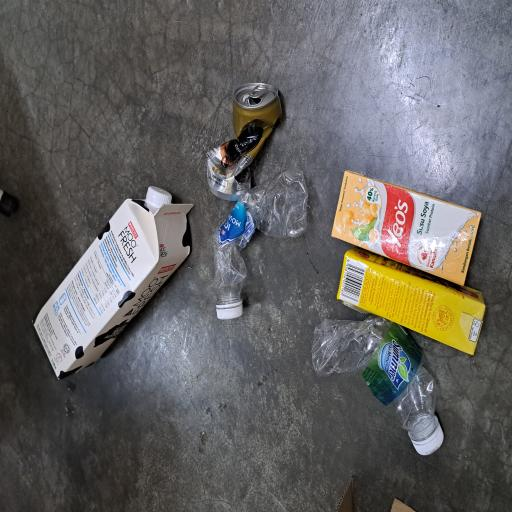can: (233, 274, 323, 376)
drink carton: (98, 41, 235, 258), (169, 441, 257, 512), (115, 448, 198, 512)
plastic bottle: (157, 280, 258, 410), (56, 415, 148, 512)
plastic bottle cap: (144, 288, 156, 325)
pop tab: (311, 332, 320, 356)
